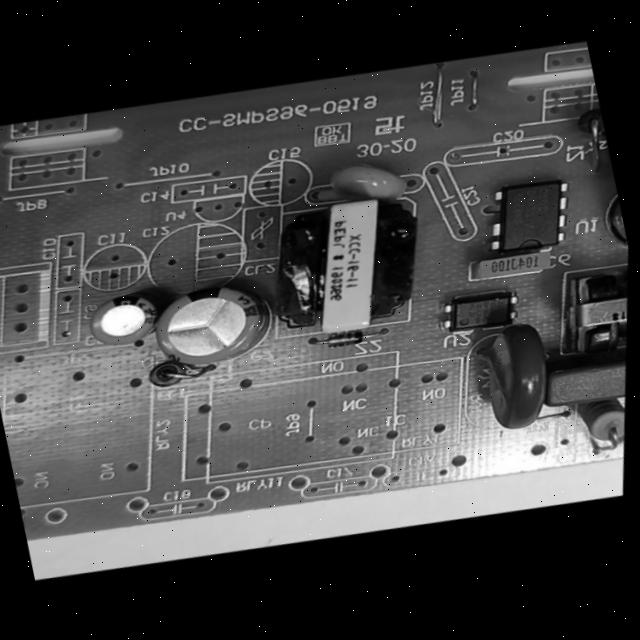Cap1: (124, 255, 289, 394)
Cap2: (57, 267, 190, 371)
Cap3: (576, 166, 633, 266)
Cap4: (574, 96, 617, 186)
MOSFET: (463, 155, 596, 271)
Mov: (446, 294, 587, 450)
Resistor: (552, 384, 628, 465)
Transformer: (234, 170, 452, 363), (526, 250, 632, 380)
